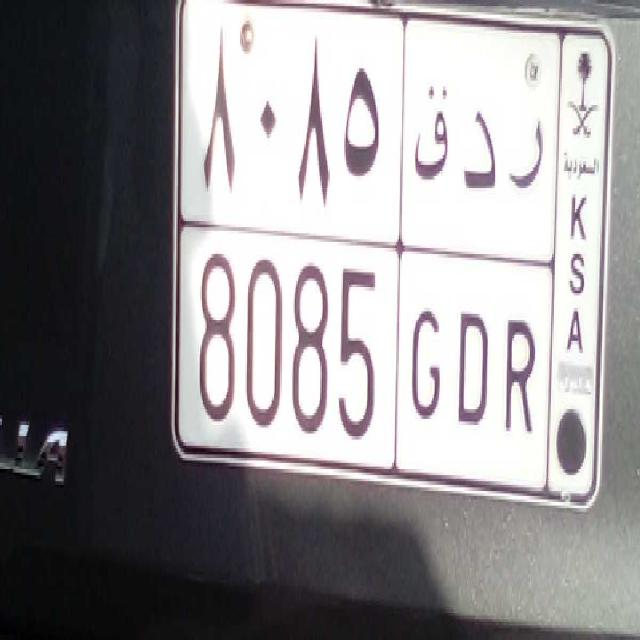license_plate: (199, 222, 543, 460)
